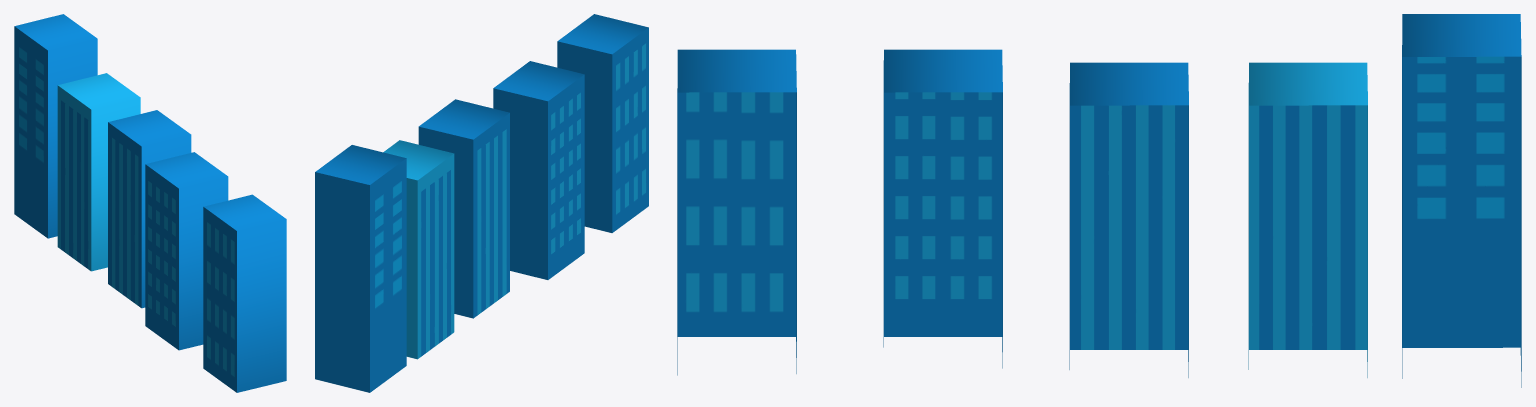
The model's file is BGtypes.fbx.
3 renders of one model, left to right at view 1: azimuth 30°, elevation 25°; view 2: azimuth 150°, elevation 25°; view 3: azimuth 270°, elevation 25°, orthographic. The views are drawn at different scales.
Visible parts, largest first — view 1: BGtype6, BGtype4, BGtype5, BGtype2, BGtype1; view 2: BGtype5, BGtype4, BGtype6, BGtype1, BGtype2; view 3: BGtype5, BGtype6, BGtype4, BGtype2, BGtype1.
Part boxes in pixels (x1=…): BGtype6: x1=203, y1=194, x2=286, y2=392; BGtype4: x1=145, y1=152, x2=228, y2=350; BGtype5: x1=14, y1=14, x2=97, y2=238; BGtype2: x1=57, y1=73, x2=140, y2=271; BGtype1: x1=108, y1=110, x2=191, y2=308; BGtype5: x1=315, y1=145, x2=406, y2=392; BGtype4: x1=493, y1=61, x2=584, y2=279; BGtype6: x1=557, y1=14, x2=648, y2=232; BGtype1: x1=418, y1=99, x2=509, y2=318; BGtype2: x1=383, y1=140, x2=454, y2=359; BGtype5: x1=1402, y1=14, x2=1521, y2=387; BGtype6: x1=677, y1=49, x2=796, y2=375; BGtype4: x1=883, y1=49, x2=1002, y2=368; BGtype2: x1=1248, y1=62, x2=1367, y2=377; BGtype1: x1=1069, y1=62, x2=1188, y2=377.
Size of the model in its own units: 7.82 by 21.84 by 49.72.
1 material, 1 textured.
